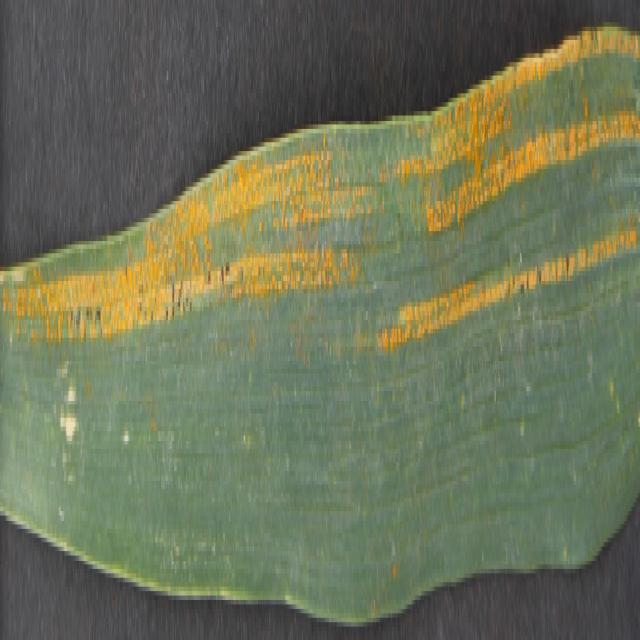leaf rust: (1, 124, 370, 378), (379, 22, 640, 373)
